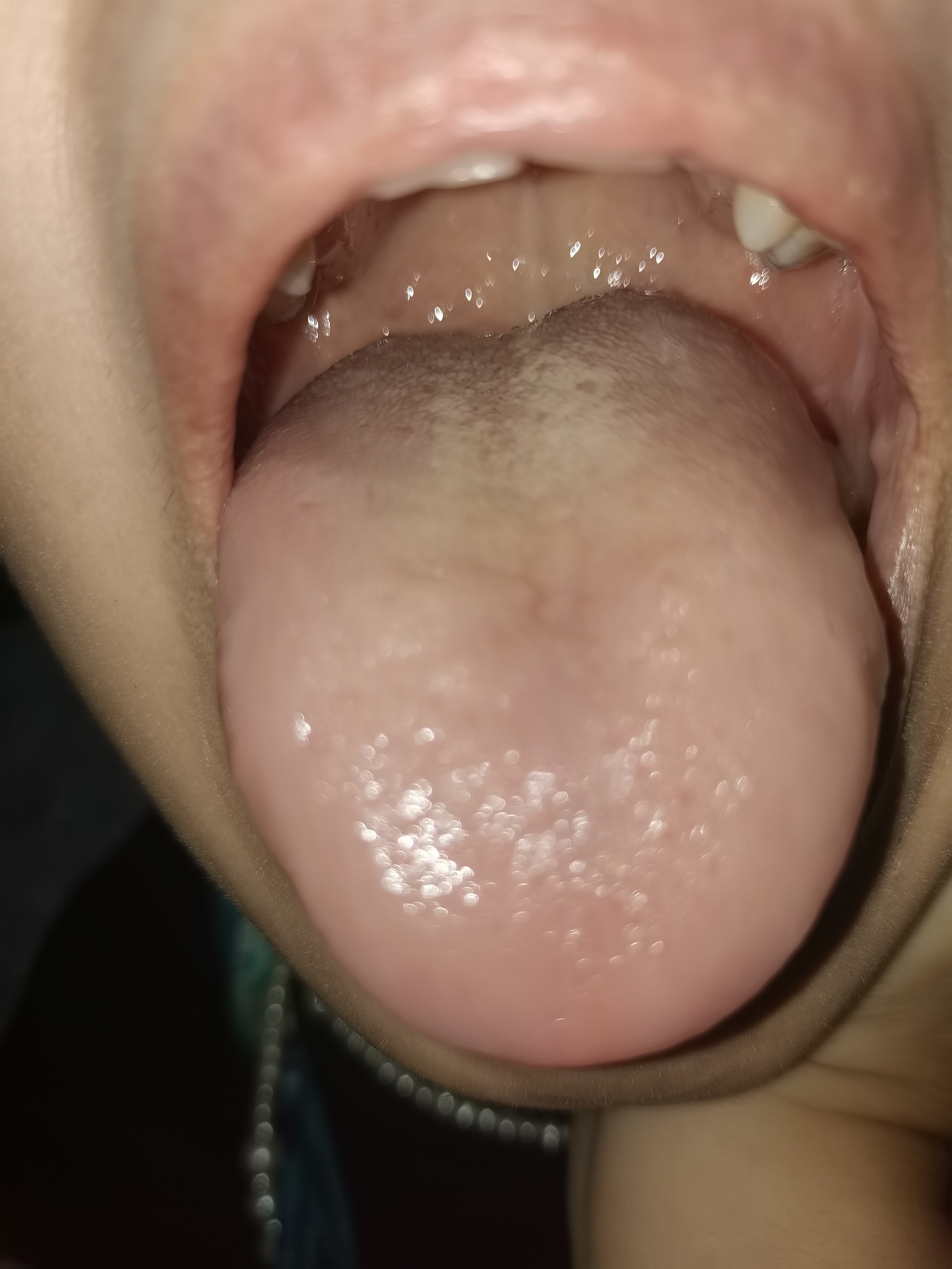baitaishe: (221, 291, 889, 1064)
